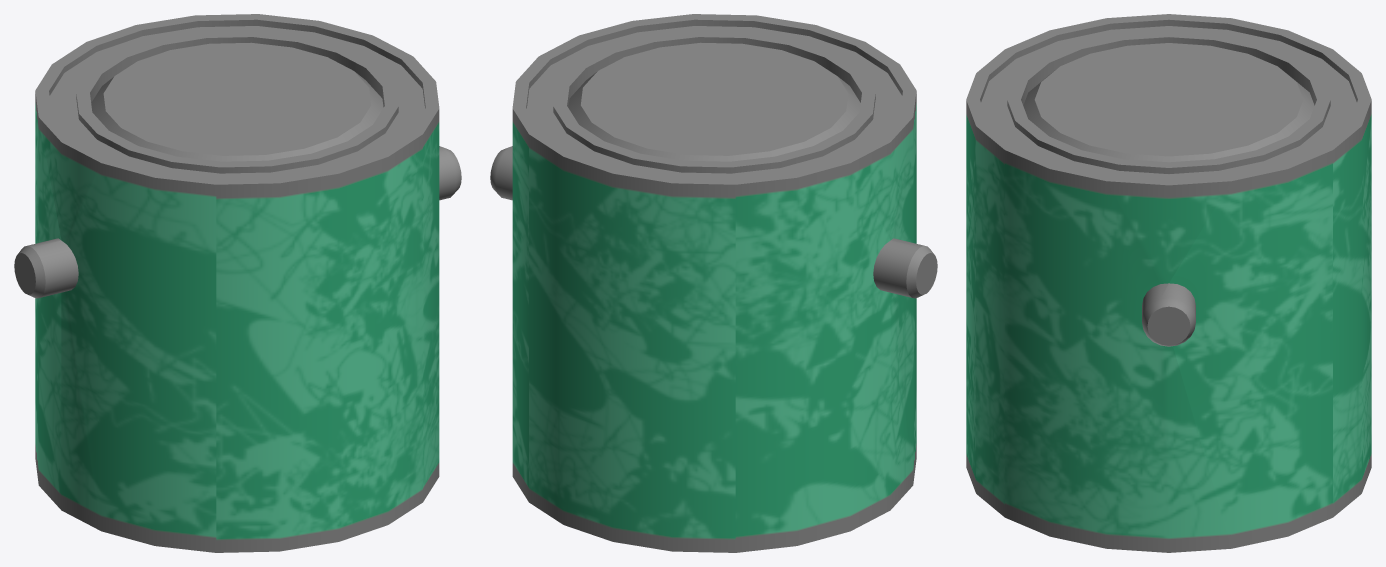
File: Paint_can_03.fbx
3 views of the same model, side by side, from view 1: azimuth 30°, elevation 25°; view 2: azimuth 150°, elevation 25°; view 3: azimuth 270°, elevation 25° (orthographic).
Parts seen in each view (by area): view 1: pCylinder5; view 2: pCylinder5; view 3: pCylinder5.
Part boxes in pixels (x1,y1,x2,y2): pCylinder5: [14, 14, 461, 552]; pCylinder5: [490, 14, 937, 552]; pCylinder5: [966, 14, 1371, 552].
Size of the model in its own units: 36.3 by 30 by 30.
Materials: 1 (1 with a texture image).
